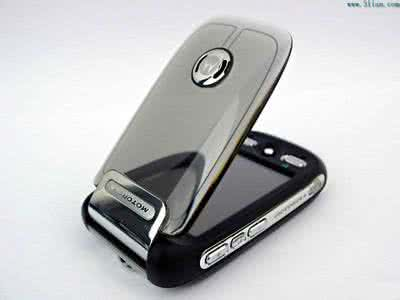phone: (94, 20, 322, 277)
